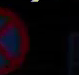No Stopping: (0, 3, 28, 74)
